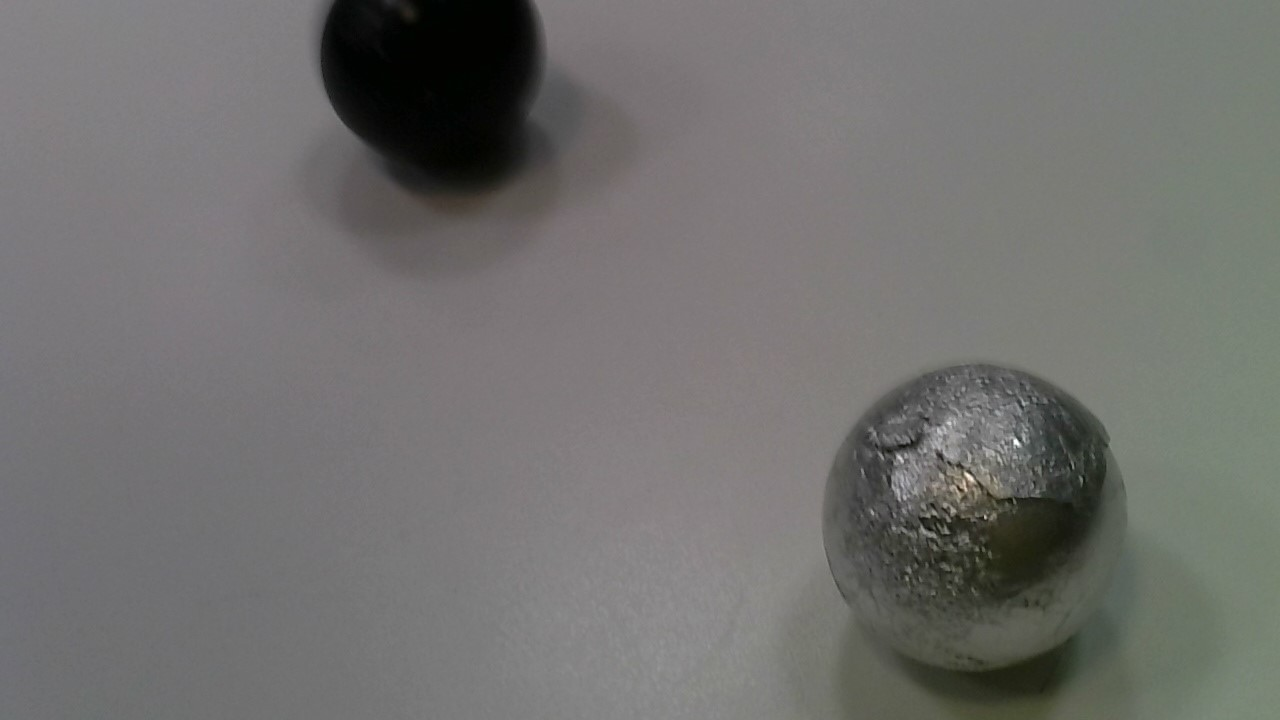silver_ball: (817, 355, 1134, 682)
